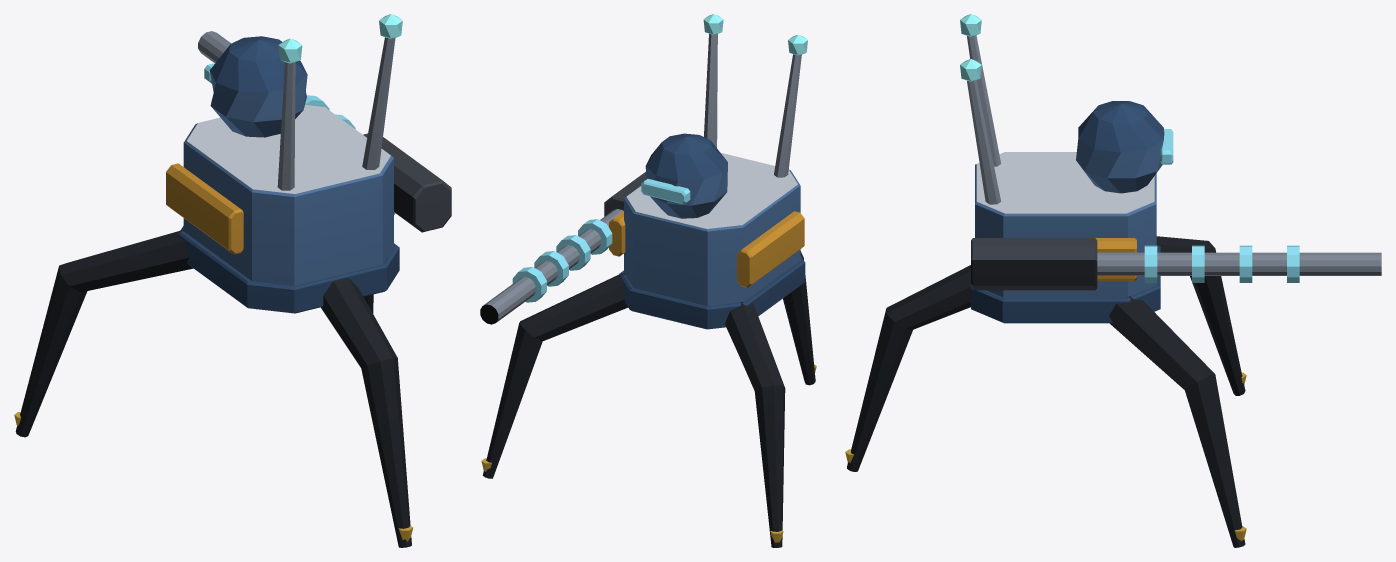
The model's file is StormSniper.fbx.
The picture shows the model from 3 angles, left to right: view 1: azimuth 30°, elevation 25°; view 2: azimuth 150°, elevation 25°; view 3: azimuth 270°, elevation 25°; orthographic projection. The views are drawn at different scales.
Parts seen in each view (by area): view 1: Body, Leg_B, Leg_FL, Head, SignalFins, FinTips; view 2: Body, Leg_FR, Leg_FL, Head, SignalFins, Coils, Leg_B, Visor, FinTips; view 3: Body, Leg_FR, Head, Leg_B, Leg_FL, SignalFins, Coils, FinTips.
Boxes of the visible parts, left/top/right/bottom form: Body: left=166, top=31, right=451, bottom=313; Leg_B: left=321, top=277, right=412, bottom=547; Leg_FL: left=14, top=230, right=193, bottom=437; Head: left=209, top=36, right=307, bottom=137; SignalFins: left=277, top=37, right=395, bottom=190; FinTips: left=278, top=14, right=402, bottom=63; Body: left=480, top=153, right=805, bottom=329; Leg_FR: left=481, top=273, right=627, bottom=478; Leg_FL: left=725, top=301, right=785, bottom=547; Head: left=645, top=133, right=727, bottom=218; SignalFins: left=704, top=34, right=801, bottom=177; Coils: left=512, top=219, right=612, bottom=302; Leg_B: left=783, top=251, right=816, bottom=385; Visor: left=641, top=179, right=690, bottom=204; FinTips: left=703, top=14, right=807, bottom=55; Body: left=971, top=152, right=1381, bottom=323; Leg_FR: left=1109, top=296, right=1246, bottom=547; Head: left=1076, top=101, right=1164, bottom=193; Leg_B: left=845, top=265, right=970, bottom=471; Leg_FL: left=1156, top=236, right=1246, bottom=395; SignalFins: left=967, top=35, right=1000, bottom=204; Coils: left=1144, top=245, right=1299, bottom=282; FinTips: left=960, top=14, right=981, bottom=81.
Bounding box in the file's own units: 2.38 × 3.03 × 3.4.
Materials: 2 (2 with a texture image).
